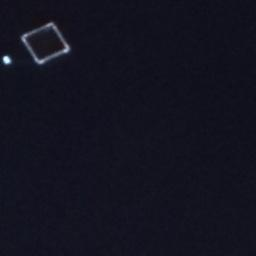square_solid: (17, 18, 76, 69)
